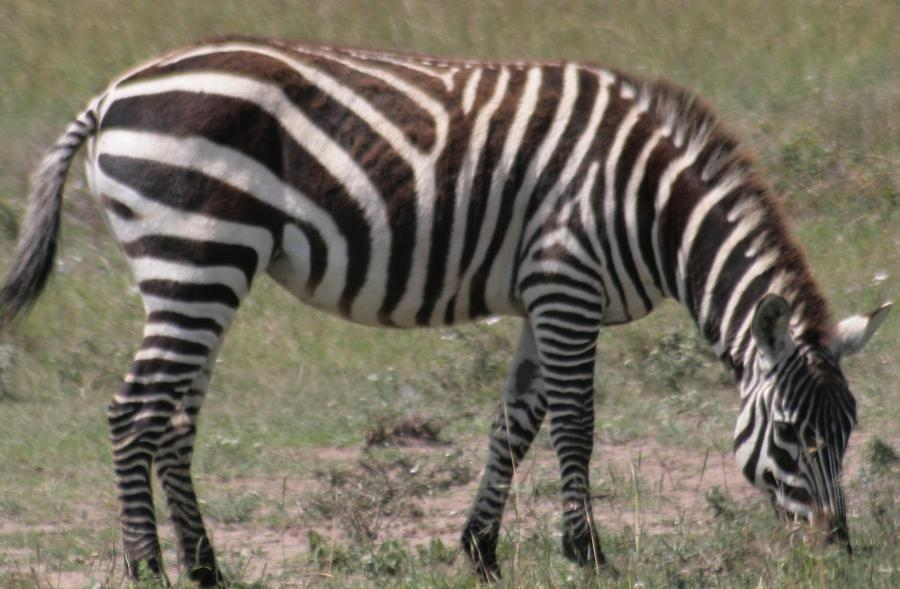zebra_plains: (116, 33, 650, 336)
